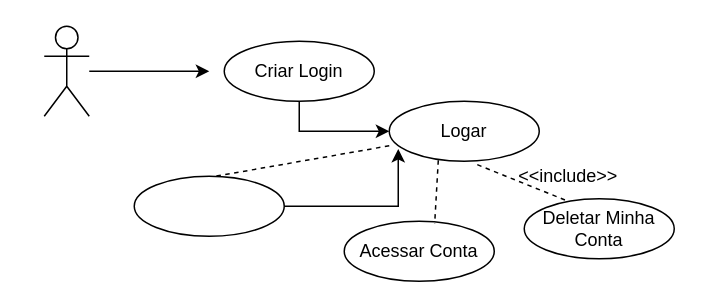
This 701x308 diagram has some shape labels left out. Each missing label, with the box of its shape:
Deslogar: (133, 175, 284, 236)
Instituição: (43, 25, 89, 116)
